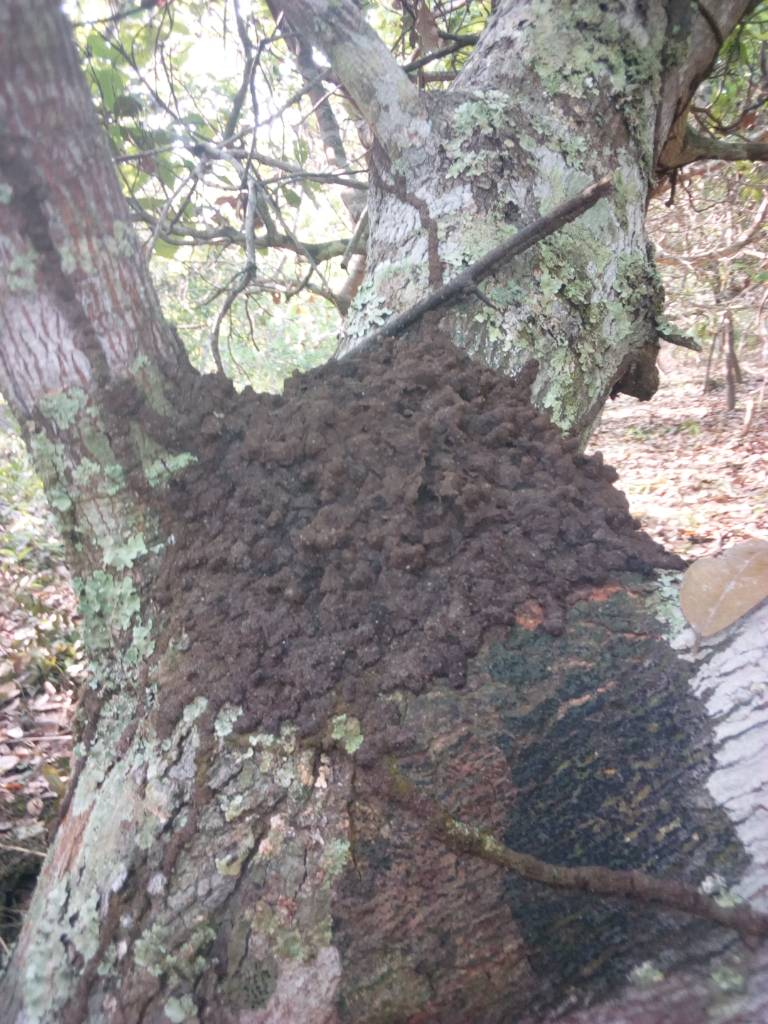Virose: (113, 294, 707, 868)
